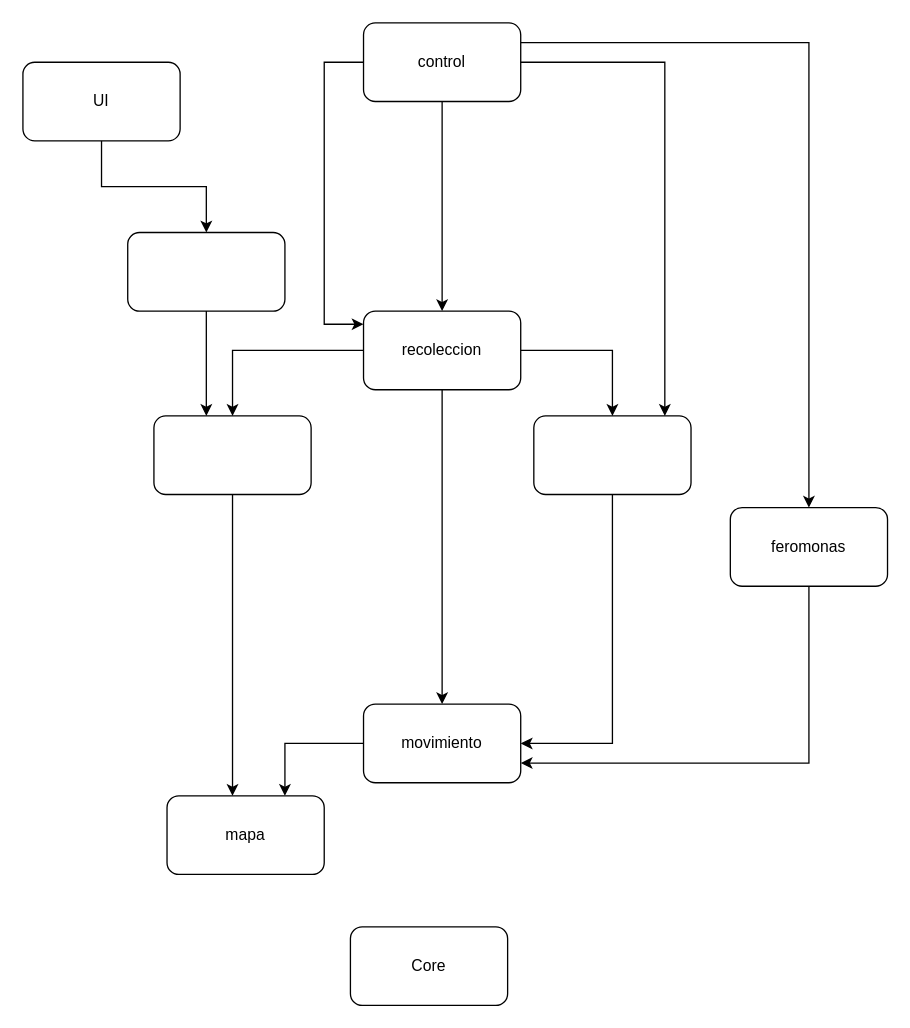
Some shapes in this 910 by 1028 pixel diagram are drawn without their labels. The centre of each missing label's shape, as x and y in pixels:
colonia: [205,271]
combate: [612,455]
recursos: [232,455]
